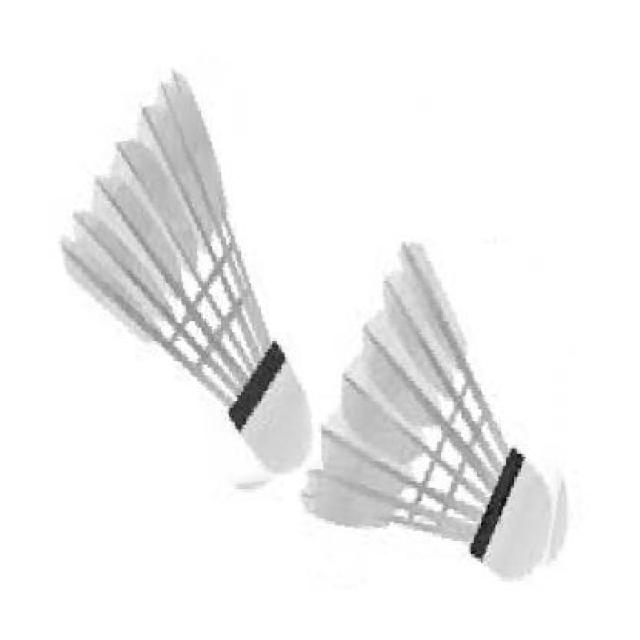Shuttlecock: (49, 60, 305, 502), (302, 234, 583, 581)
